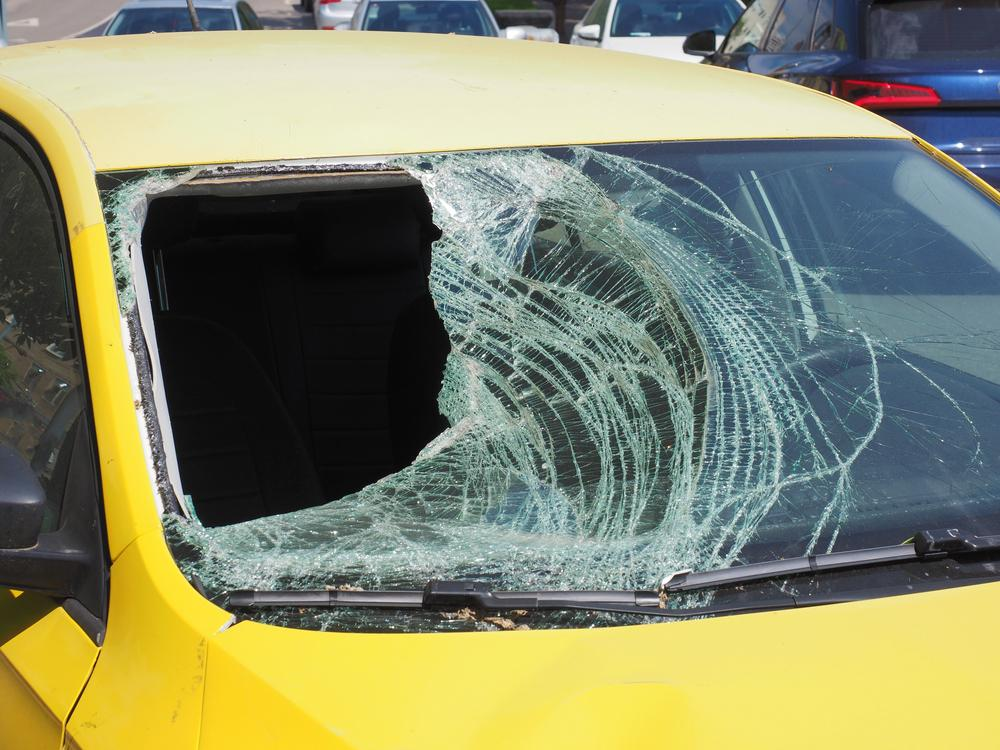glass shatter: (96, 140, 1000, 631)
